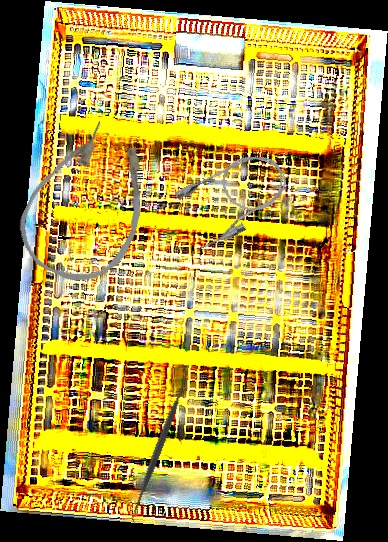Cannula: (5, 108, 173, 298), (168, 142, 299, 255)
Spatula Surgical: (121, 364, 198, 526)
